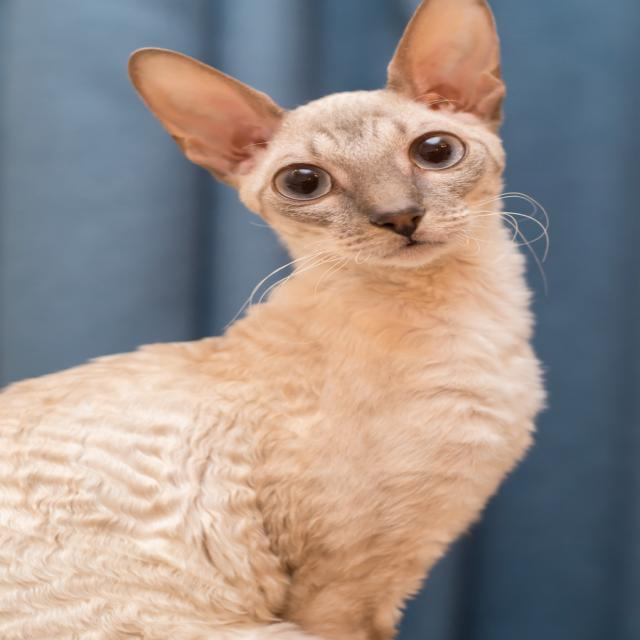Cornish Rex: (0, 0, 555, 640)
